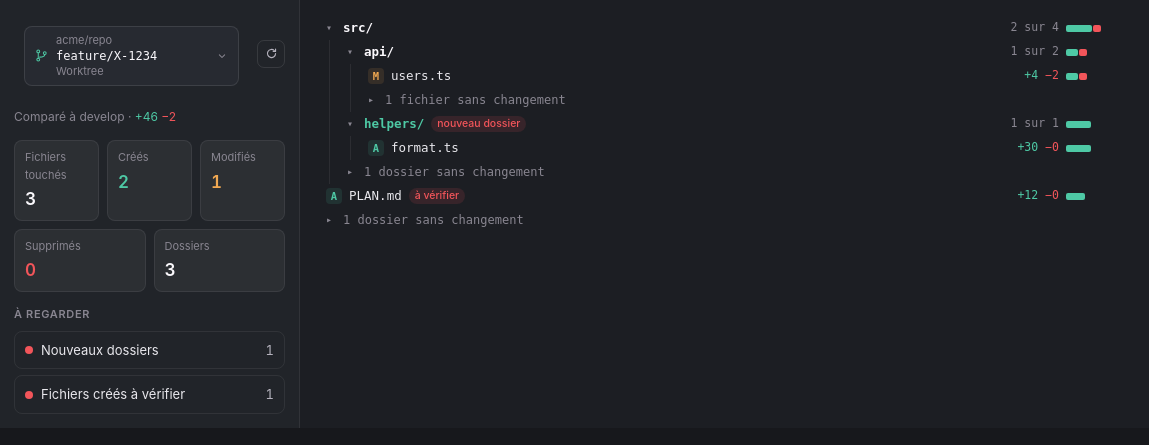
Test: montre les fichiers touchés à leur place dans l’arborescence, les voisins repliés
Expected: the text "users.ts" is shown, [391, 66, 451, 86]
Expected: the button "▾ src/ 2 sur 4" is shown, [320, 16, 1132, 40]
Click the button with class "is-quiet-toggle" showing "▸ 1 fichier sans changement".
click(475, 100)  # box [362, 88, 1132, 112]
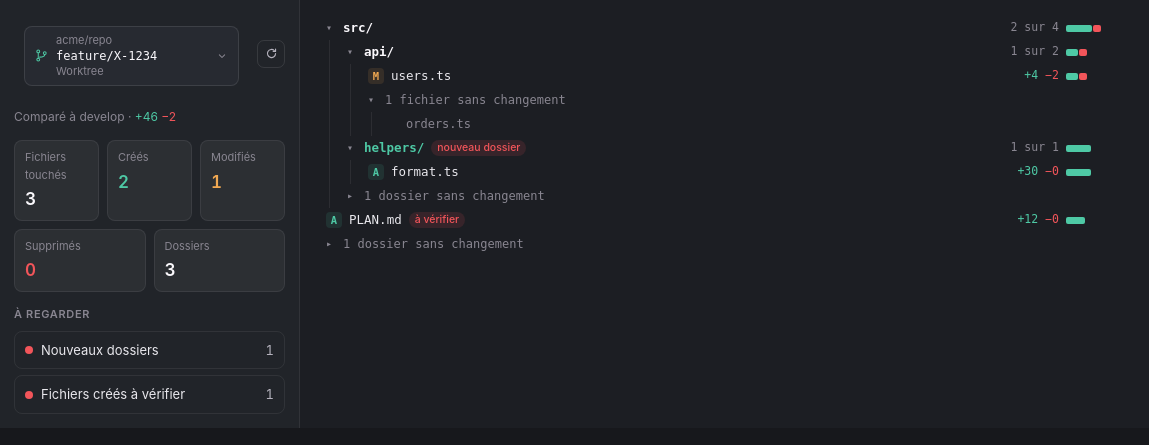
Now the text "orders.ts" is shown, box [406, 115, 471, 133]
